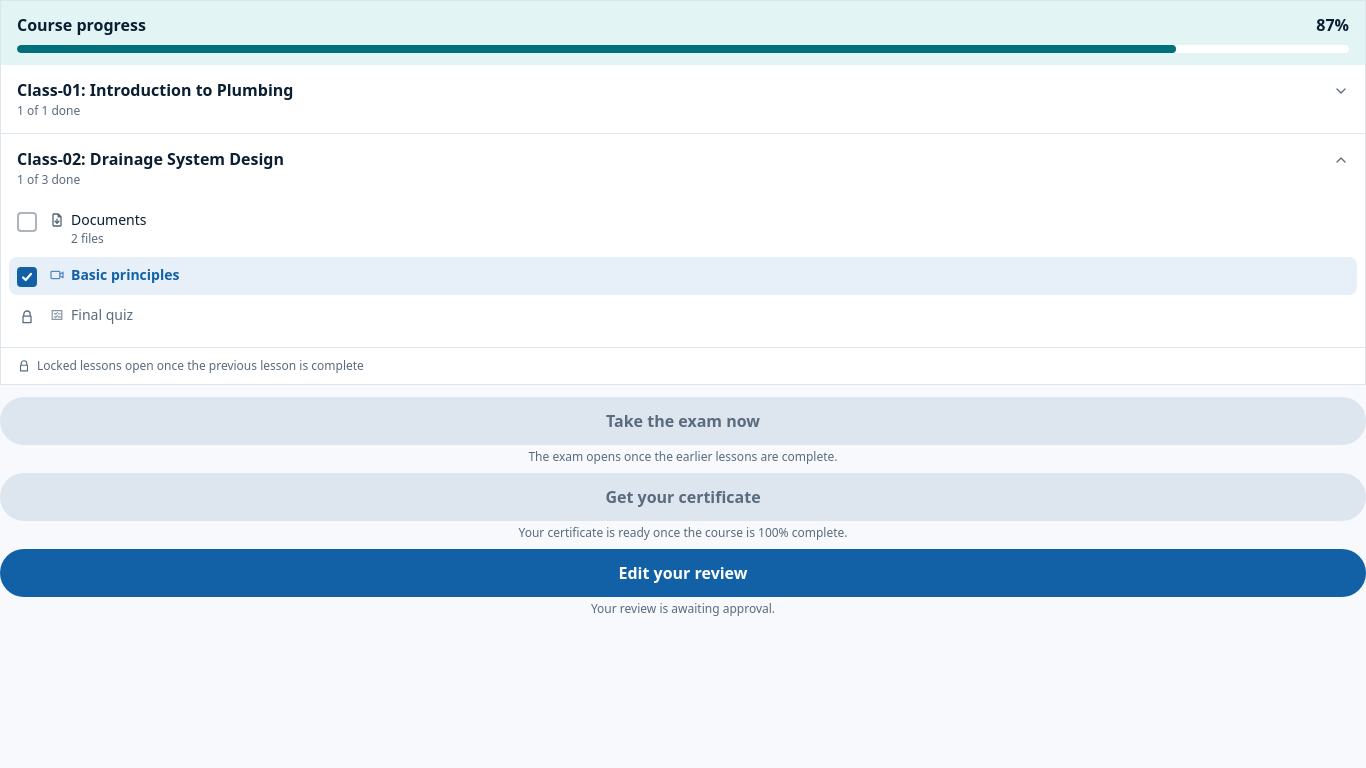
CourseOutlineNav › opens an earlier review for editing, with its status
The width and height of the screenshot is (1366, 768).
Expected: the text "Your review is awaiting approval." is shown, [591,600,775,617]
Click the button "Edit your review": (683, 573) [0,549,1365,597]
(page scrolled)
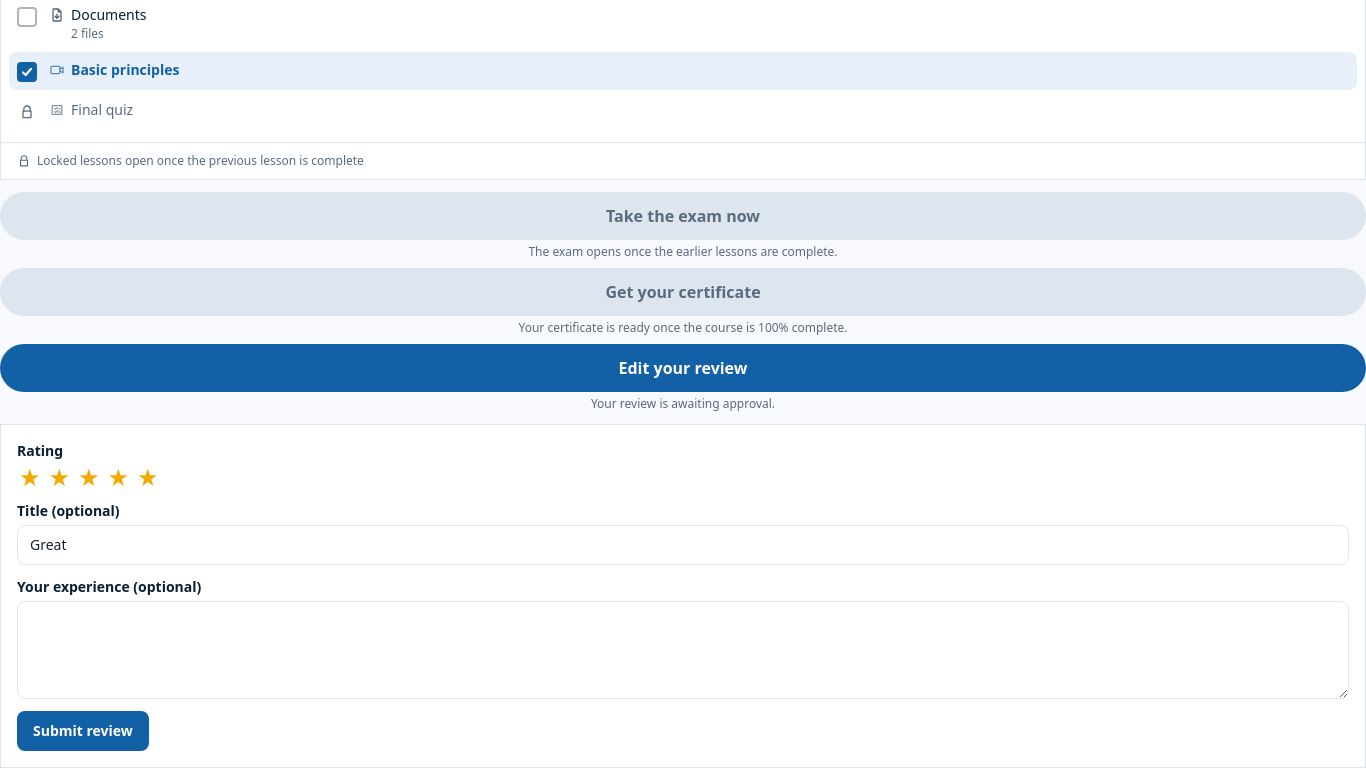
Expected: the radio button named "5 stars" is checked, [137,460,159,493]
Expected: the field labelled "Title (optional)" holds "Great", [17,525,1349,565]
